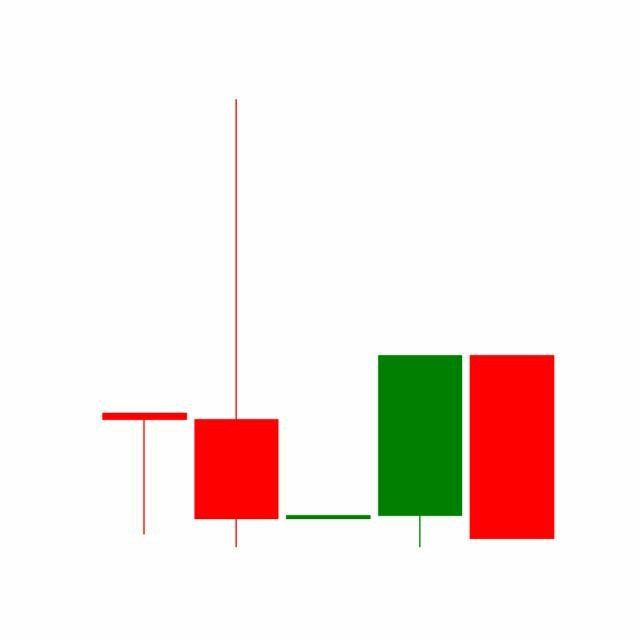Marubozu: (466, 353, 559, 541)
